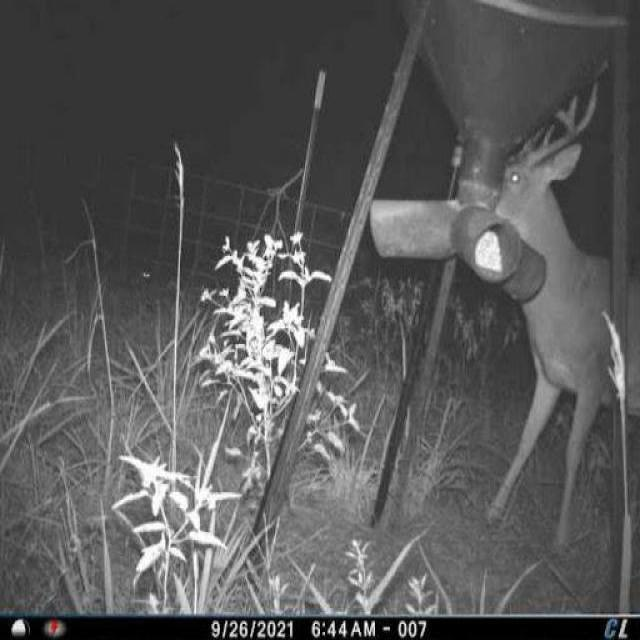deer: (410, 77, 640, 568)
